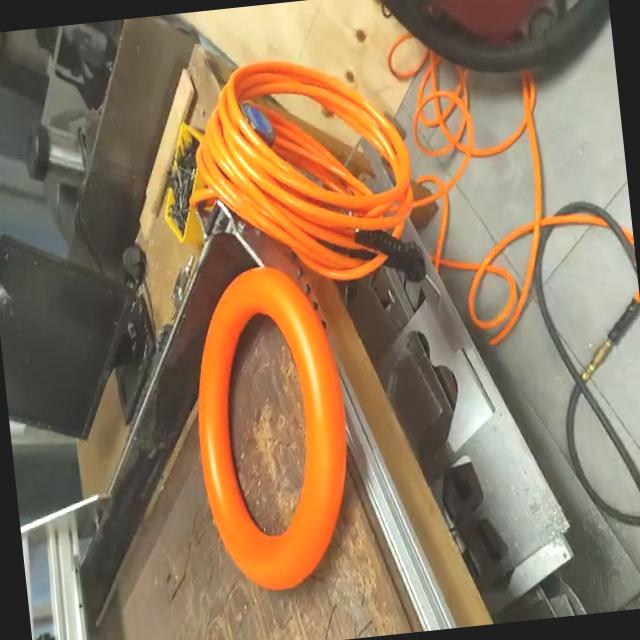note: (180, 263, 366, 601)
